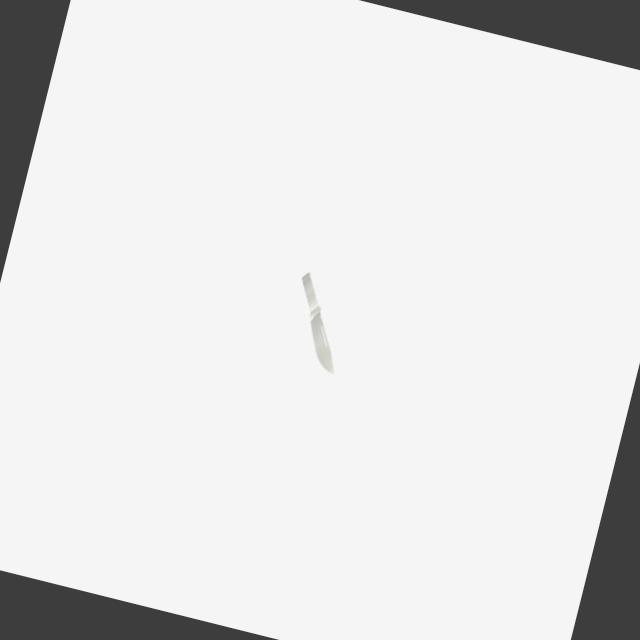knife: (294, 271, 326, 318)
